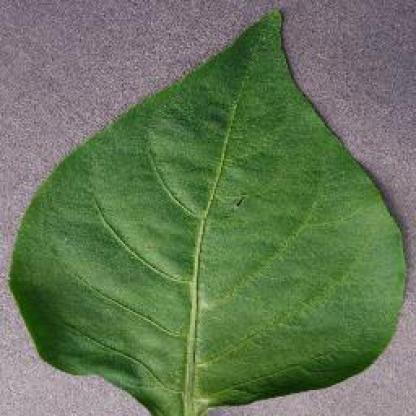good leaf: (28, 84, 398, 370)
